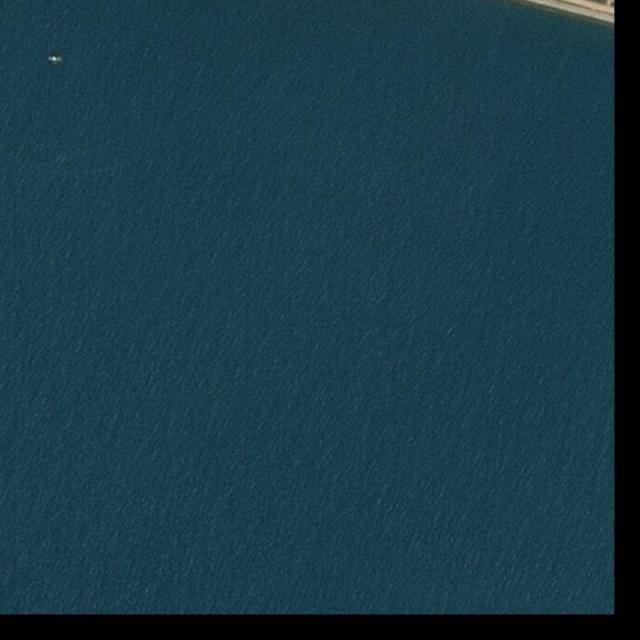ship: (49, 54, 62, 62)
